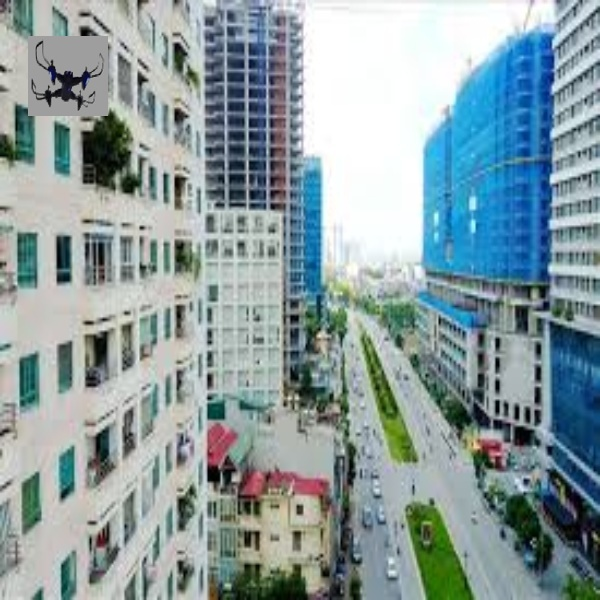drone: (28, 41, 109, 113)
